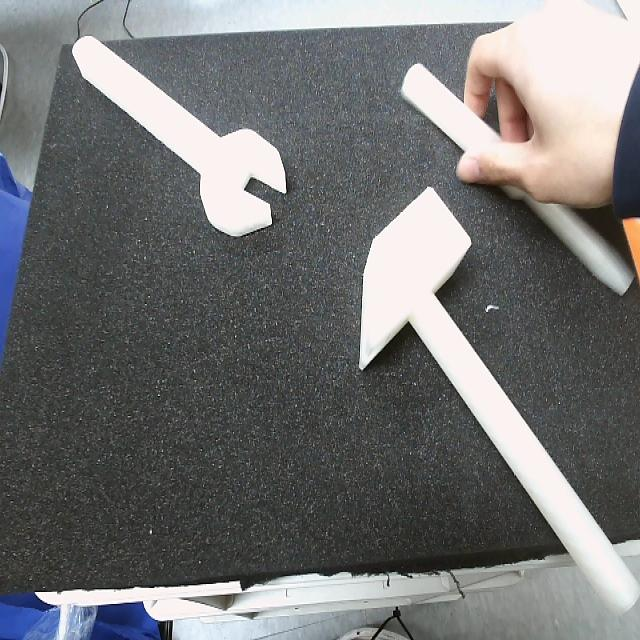Hammer: (357, 188, 639, 611)
Spanner: (72, 36, 288, 239)
